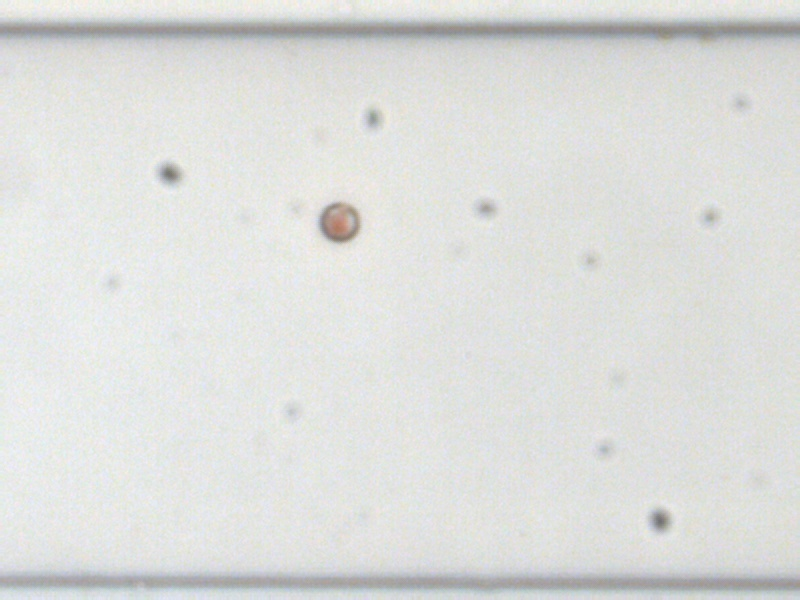Porphyridium: (317, 201, 361, 243)
